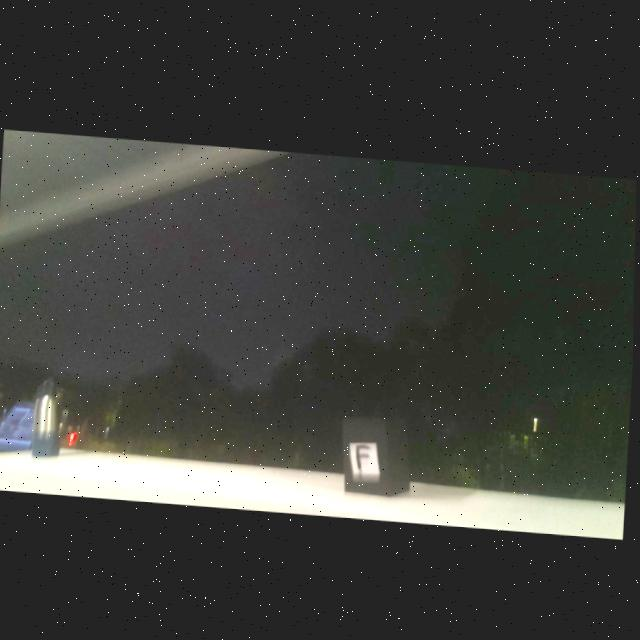F: (358, 441, 372, 466)
